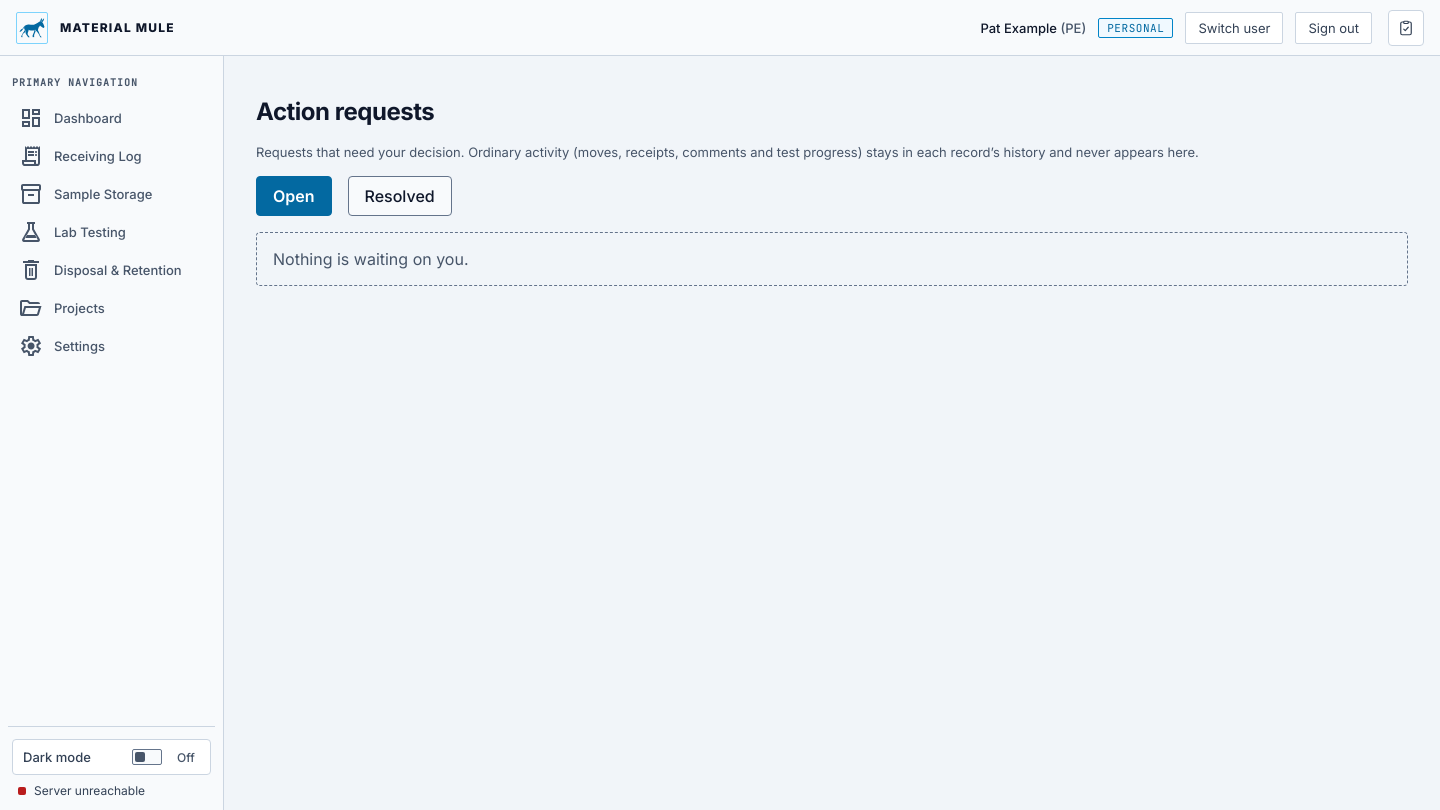
Test case: Action requests (MM-T27) › Resolved filter shows who resolved it for everyone
The image size is (1440, 810).
Expected: the text "Nothing is waiting on you." is shown, [256,232,1408,286]
Click the button "Resolved": (400, 196) [348,176,452,216]
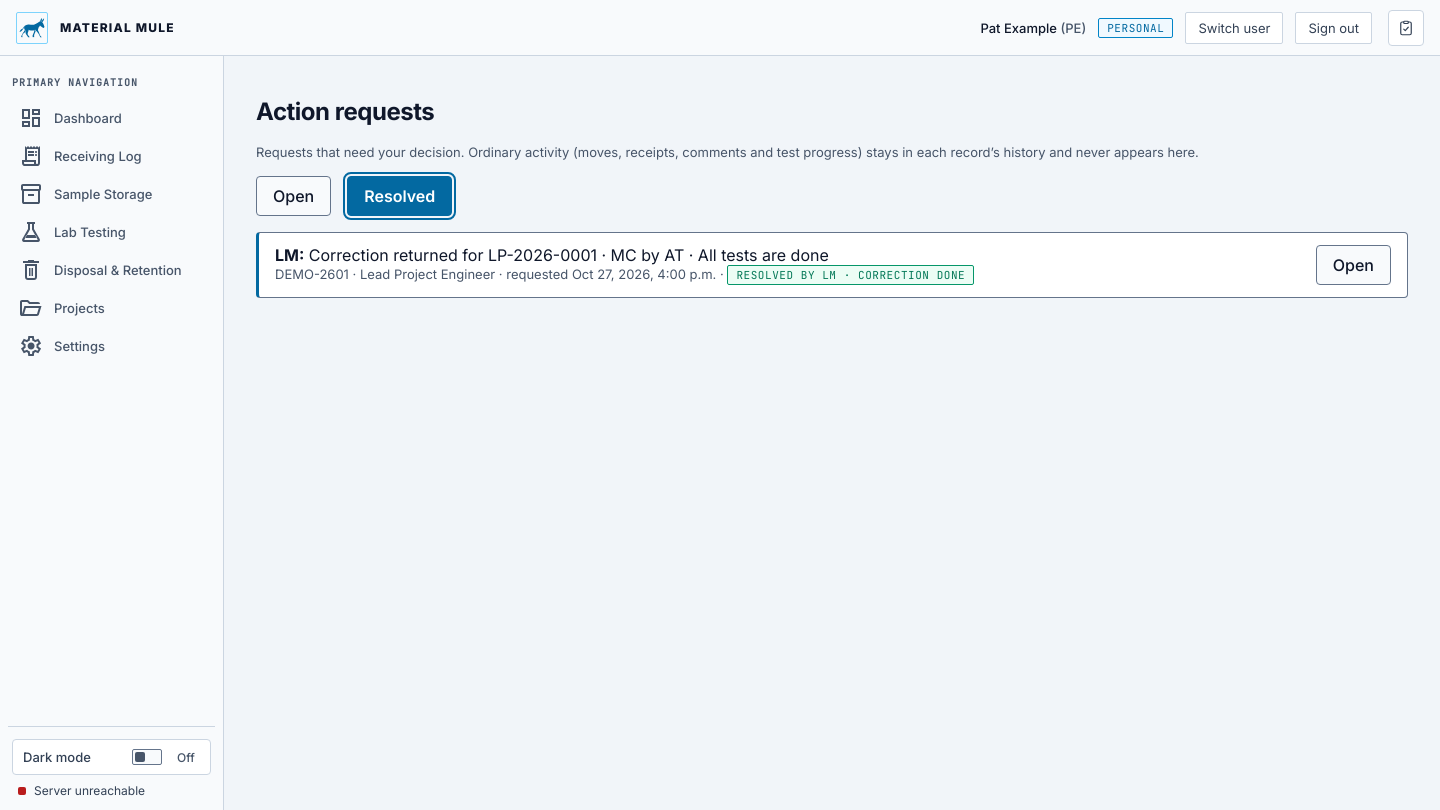
Result: the text "Resolved by LM · Correction done" is shown at [727,265,974,285]
